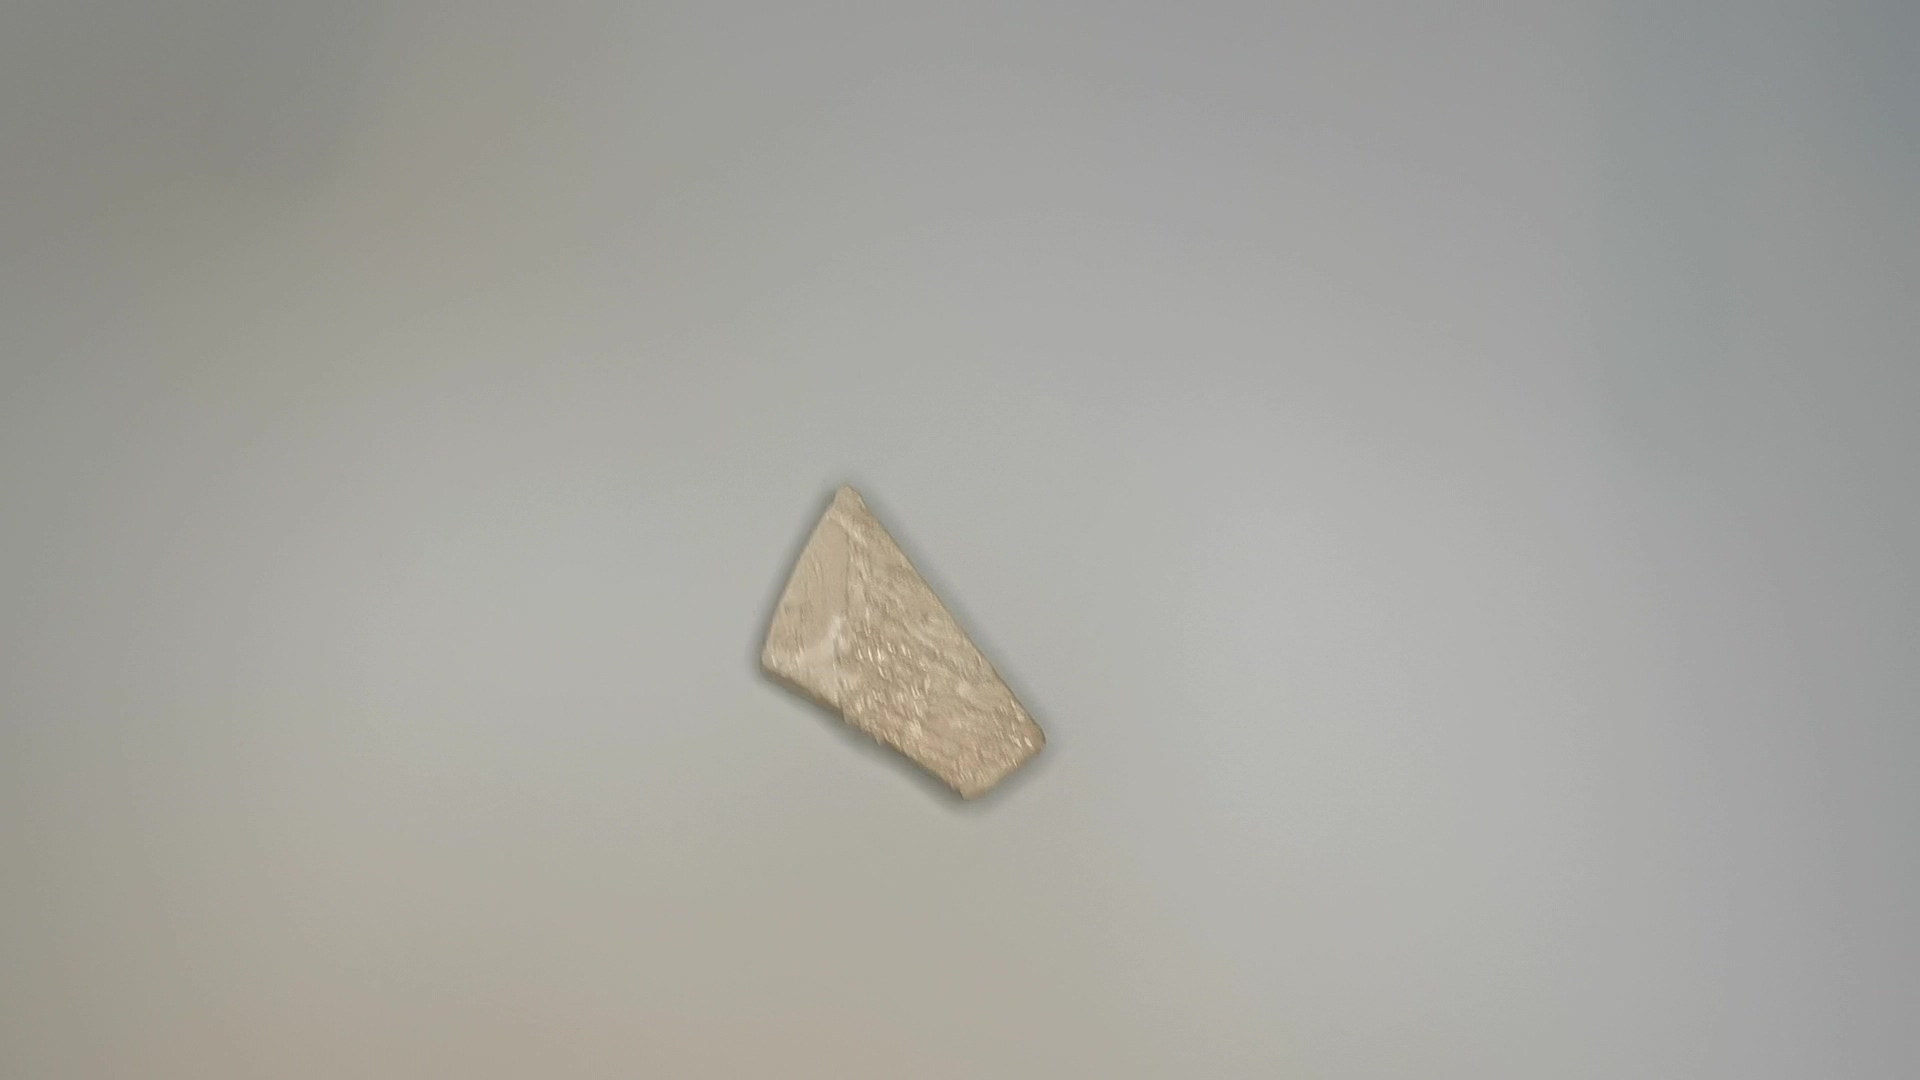ceramic: (737, 480, 1051, 808)
